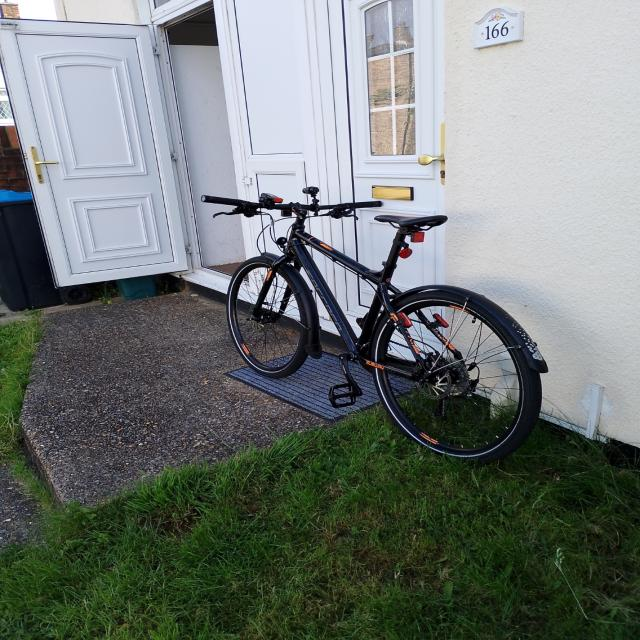bicycle: (200, 186, 549, 464)
